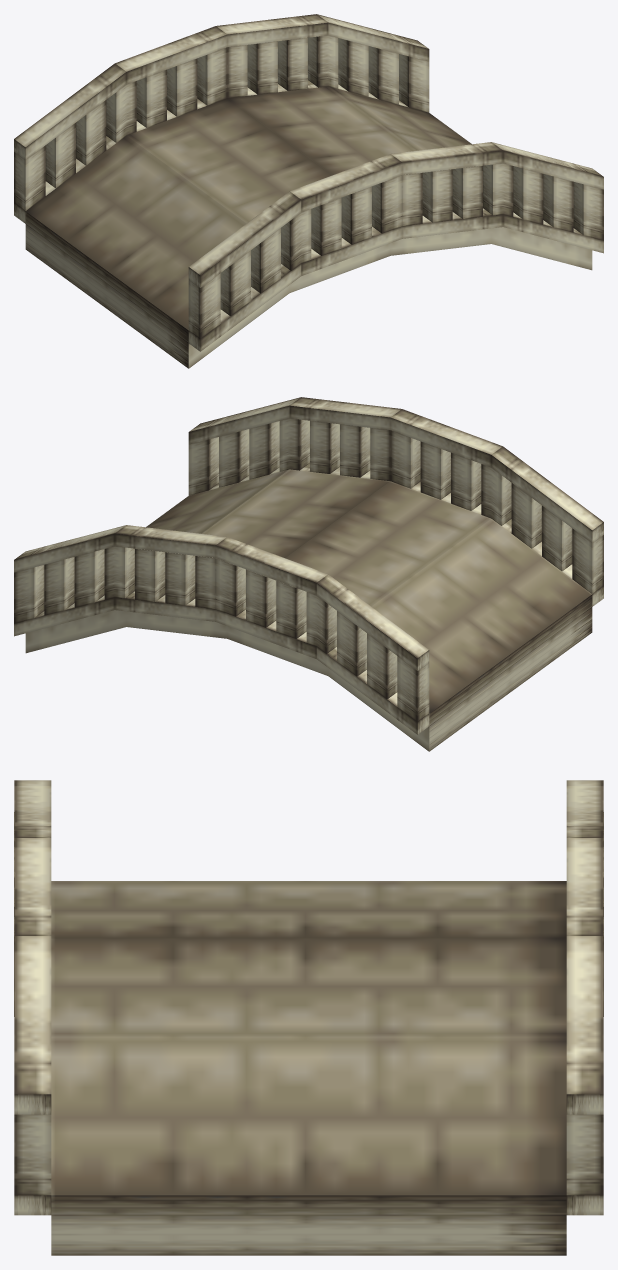
Rendered from Poly_World_Map_Bridge_01.obj.
3 renders of one model, top to bottom at view 1: azimuth 30°, elevation 25°; view 2: azimuth 150°, elevation 25°; view 3: azimuth 270°, elevation 25°, orthographic. The views are drawn at different scales.
Parts seen in each view (by area): view 1: Grid.002, Grid.001, Grid.003, Grid.004; view 2: Grid.002, Grid.001, Grid.003, Grid.004; view 3: Grid.002, Grid.001, Grid.003.
Part boxes in pixels (left/top/right/bottom): Grid.002: left=25, top=86, right=592, bottom=368; Grid.001: left=14, top=14, right=603, bottom=351; Grid.003: left=14, top=35, right=603, bottom=338; Grid.004: left=136, top=38, right=482, bottom=255; Grid.002: left=25, top=469, right=592, bottom=751; Grid.001: left=14, top=397, right=603, bottom=734; Grid.003: left=14, top=418, right=603, bottom=721; Grid.004: left=135, top=421, right=481, bottom=638; Grid.002: left=51, top=881, right=566, bottom=1255; Grid.001: left=14, top=780, right=603, bottom=1215; Grid.003: left=14, top=1114, right=603, bottom=1195.
Size of the model in its own units: 1.4 by 0.5492 by 1.12.
Materials: 1 (1 with a texture image).
